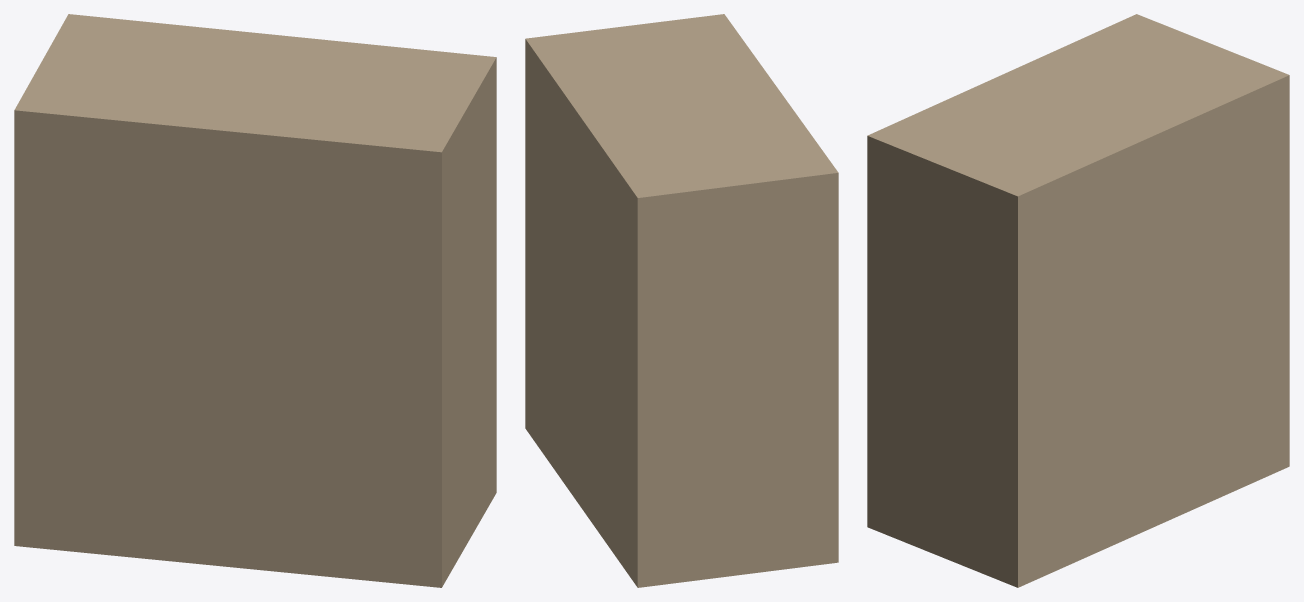
Rendered from bld_99015960.dae.
The picture shows the model from 3 angles, left to right: view 1: azimuth 30°, elevation 25°; view 2: azimuth 150°, elevation 25°; view 3: azimuth 270°, elevation 25°; orthographic projection. The views are drawn at different scales.
Parts seen in each view (by area): view 1: bld_99015960; view 2: bld_99015960; view 3: bld_99015960.
Boxes of the visible parts, left/top/right/bottom form: bld_99015960: left=14, top=14, right=496, bottom=587; bld_99015960: left=525, top=14, right=838, bottom=587; bld_99015960: left=867, top=14, right=1289, bottom=587.
Size of the model in its own units: 8 by 7.82 by 8.
